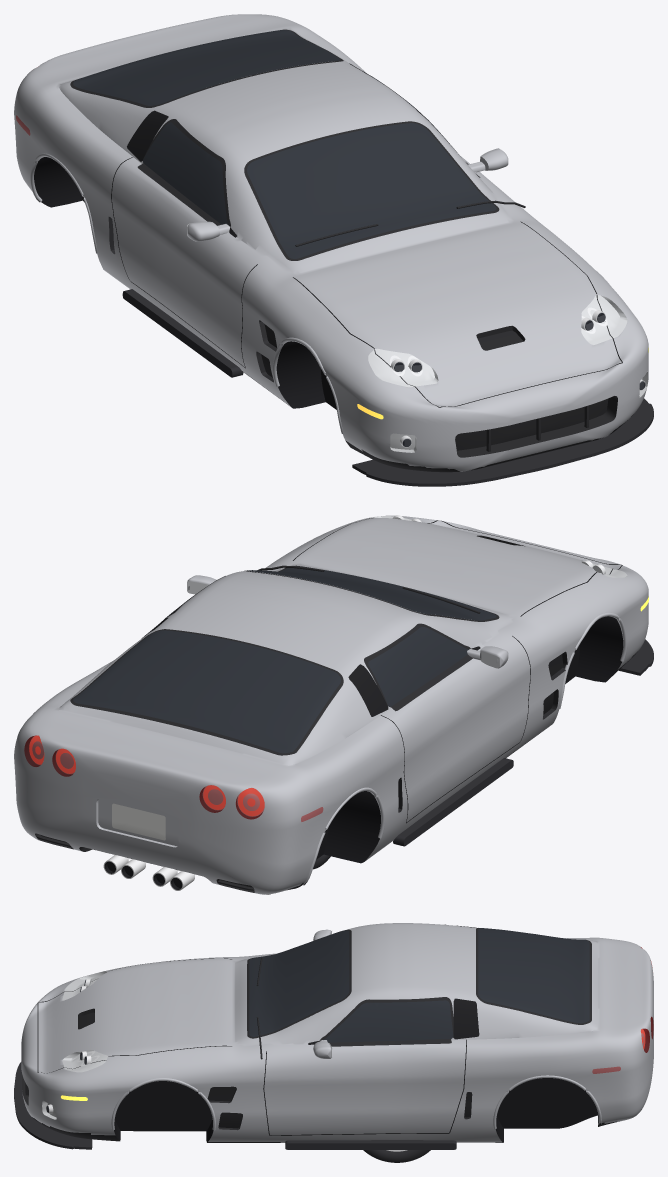
Rendered from frigate.glb.
3 renders of one model, top to bottom at view 1: azimuth 30°, elevation 25°; view 2: azimuth 150°, elevation 25°; view 3: azimuth 270°, elevation 25°, orthographic. The views are drawn at different scales.
Parts seen in each view (by area): view 1: Body; view 2: Body; view 3: Body, TyreR.
Part boxes in pixels (x1,y1,x2,y2): Body: (14, 14, 653, 486); Body: (14, 515, 653, 894); Body: (14, 923, 653, 1149); TyreR: (363, 1150, 430, 1162).
Size of the model in its own units: 2 by 1.58 by 4.48.
